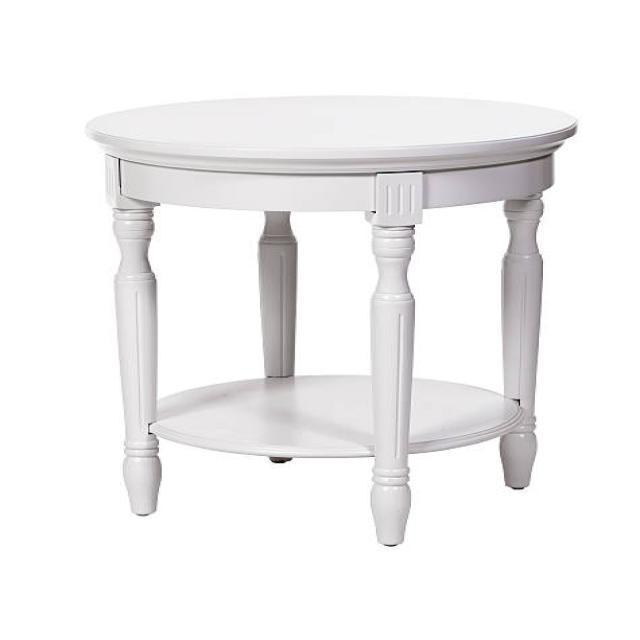table: (84, 93, 578, 546)
